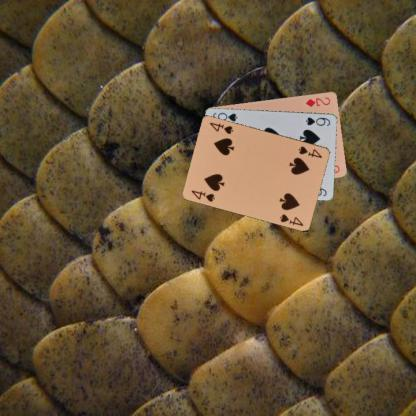2d: (302, 94, 332, 108)
4s: (296, 144, 323, 160), (189, 187, 216, 203)
6s: (303, 115, 332, 127)
